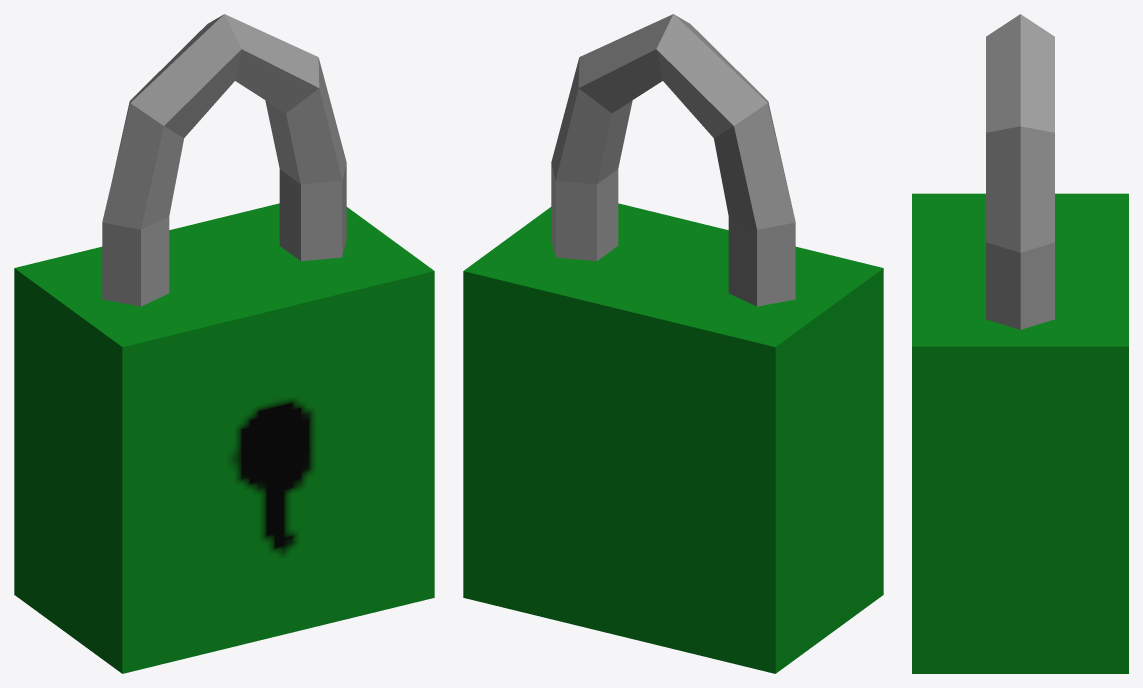
Rendered from PadlockG.fbx.
The picture shows the model from 3 angles, left to right: view 1: azimuth 30°, elevation 25°; view 2: azimuth 150°, elevation 25°; view 3: azimuth 270°, elevation 25°; orthographic projection.
Visible parts, largest first — view 1: Padlock2; view 2: Padlock2; view 3: Padlock2.
Boxes of the visible parts, x1,y1,x2,y2 form: Padlock2: [14, 14, 434, 673]; Padlock2: [463, 14, 883, 673]; Padlock2: [912, 14, 1128, 673].
Bounding box in the file's own units: 30 × 53.46 × 18.
Materials: 1 (1 with a texture image).
